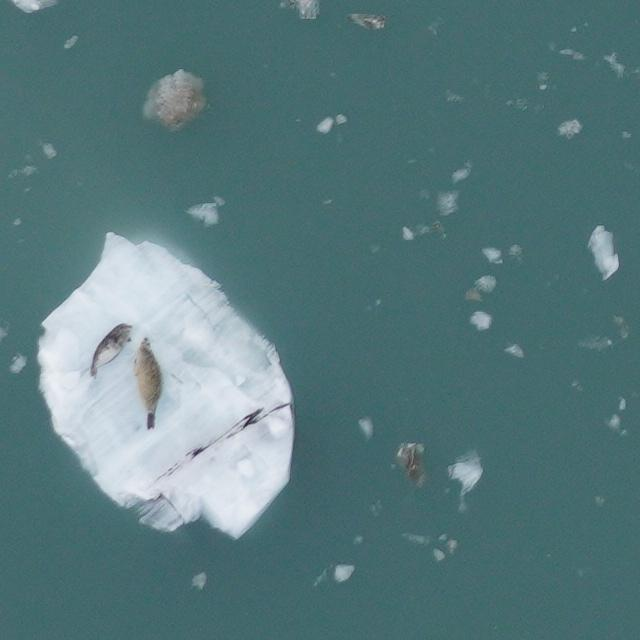seal: (132, 333, 165, 432), (86, 320, 136, 382)
